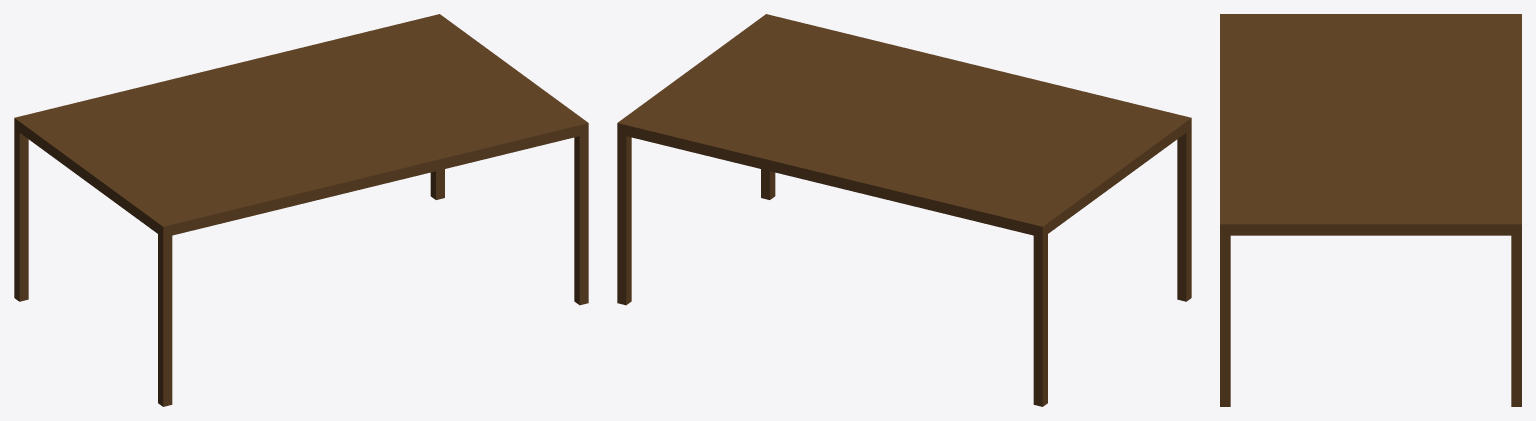
Rendered from table.fbx.
The picture shows the model from 3 angles, left to right: view 1: azimuth 30°, elevation 25°; view 2: azimuth 150°, elevation 25°; view 3: azimuth 270°, elevation 25°; orthographic projection.
Parts seen in each view (by area): view 1: Cube.008; view 2: Cube.008; view 3: Cube.008.
Boxes of the visible parts, x1=… form: Cube.008: x1=14, y1=14, x2=588, y2=406; Cube.008: x1=617, y1=14, x2=1191, y2=406; Cube.008: x1=1220, y1=14, x2=1521, y2=406.
Bounding box in the file's own units: 202 × 81.9 × 123.
